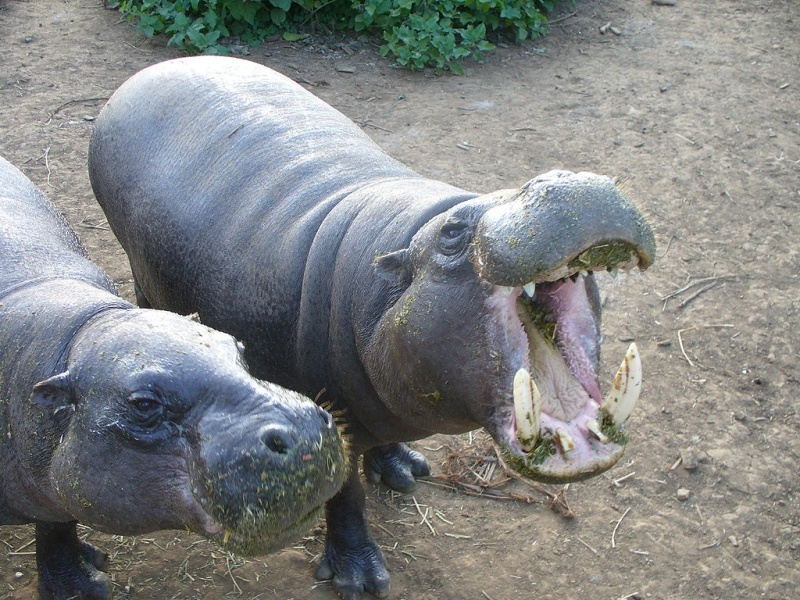hipopotamo: (91, 51, 664, 494), (0, 149, 352, 577)
